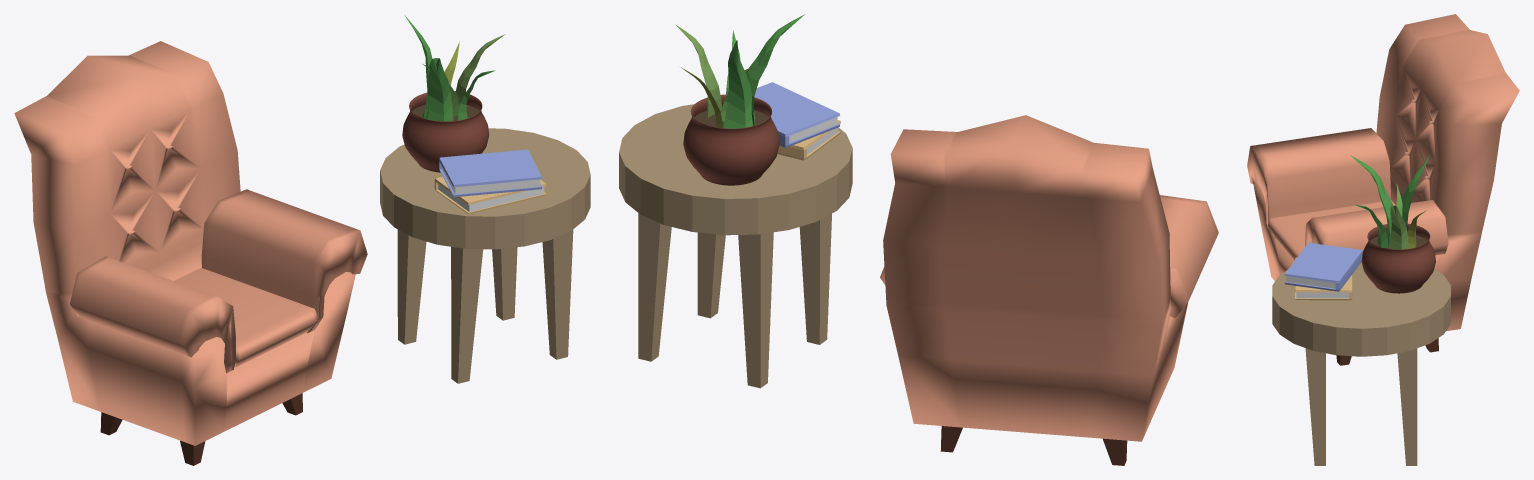
Rendered from Chair_Ar.glb.
3 views of the same model, side by side, from view 1: azimuth 30°, elevation 25°; view 2: azimuth 150°, elevation 25°; view 3: azimuth 270°, elevation 25° (orthographic). The views are drawn at different scales.
Visible parts, largest first — view 1: Cube, Cylinder.006, Cube.002, Cube.003, Cube.001, Circle, Cube.013, Cube.011, Cube.009, Cube.010, Cube.008, Cube.012 (+2 smaller); view 2: Cube, Cylinder.006, Circle, Cube.010, Cube.003, Cube.008, Cube.011, Cube.013, Cube.009, Cylinder, Cylinder.003, Cube.012 (+1 smaller); view 3: Cube, Cylinder.006, Cube.003, Cube.002, Circle, Cube.013, Cube.008, Cube.009, Cube.001, Cube.012, Cylinder.005, Cylinder.003 (+2 smaller).
Part boxes in pixels (x1,y1,x2,y2): Cube: [14, 41, 355, 445]; Cylinder.006: [380, 128, 590, 249]; Cube.002: [201, 189, 367, 333]; Cube.003: [70, 256, 235, 373]; Cube.001: [174, 267, 318, 367]; Circle: [402, 91, 489, 172]; Cube.013: [439, 149, 542, 197]; Cube.011: [451, 246, 483, 383]; Cube.009: [542, 229, 573, 359]; Cube.010: [397, 229, 426, 344]; Cube.008: [492, 247, 517, 320]; Cube.012: [434, 176, 546, 214]; Cube: [883, 115, 1188, 441]; Cylinder.006: [619, 104, 852, 235]; Circle: [683, 94, 779, 185]; Cube.010: [738, 232, 773, 388]; Cube.003: [1160, 195, 1218, 318]; Cube.008: [638, 213, 671, 361]; Cube.011: [799, 213, 831, 344]; Cube.013: [754, 82, 840, 147]; Cube.009: [697, 232, 725, 318]; Cylinder: [723, 40, 755, 128]; Cylinder.003: [746, 14, 804, 125]; Cube.012: [777, 120, 840, 160]; Cube: [1253, 14, 1519, 331]; Cylinder.006: [1272, 262, 1450, 356]; Cube.003: [1247, 128, 1390, 239]; Cube.002: [1305, 200, 1448, 255]; Circle: [1361, 223, 1435, 293]; Cube.013: [1284, 243, 1362, 291]; Cube.008: [1397, 348, 1417, 465]; Cube.009: [1305, 348, 1325, 465]; Cube.001: [1267, 200, 1394, 260]; Cube.012: [1295, 257, 1352, 300]; Cylinder.005: [1388, 205, 1408, 249]; Cylinder.003: [1350, 155, 1393, 245].
Bounding box in the file's own units: 4.09 × 2.5 × 2.22.
